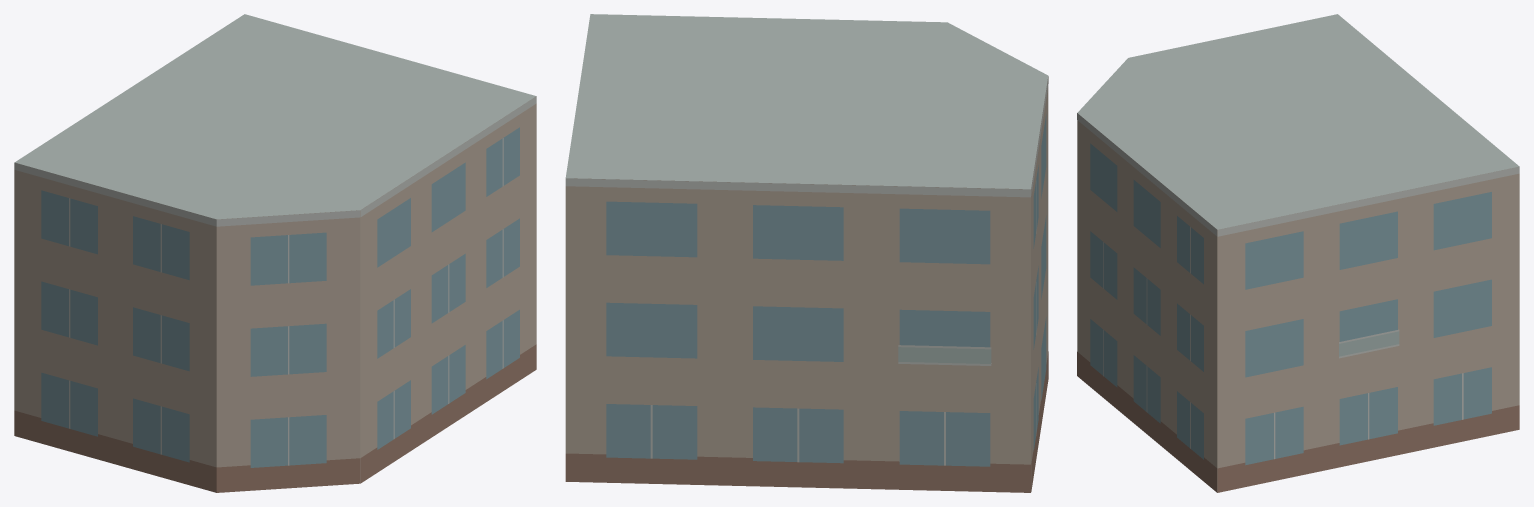
File: survey-upis-32781151.glb
3 renders of one model, left to right at view 1: azimuth 30°, elevation 25°; view 2: azimuth 150°, elevation 25°; view 3: azimuth 270°, elevation 25°, orthographic. The views are drawn at different scales.
Visible parts, largest first — view 1: survey-upis-32781151.tmp; view 2: survey-upis-32781151.tmp; view 3: survey-upis-32781151.tmp.
Boxes of the visible parts, box(x1,y1,x2,y2) form: survey-upis-32781151.tmp: box(14, 14, 536, 492); survey-upis-32781151.tmp: box(565, 14, 1048, 492); survey-upis-32781151.tmp: box(1077, 14, 1519, 492).
Size of the model in its own units: 16.1 by 9.15 by 13.95.
